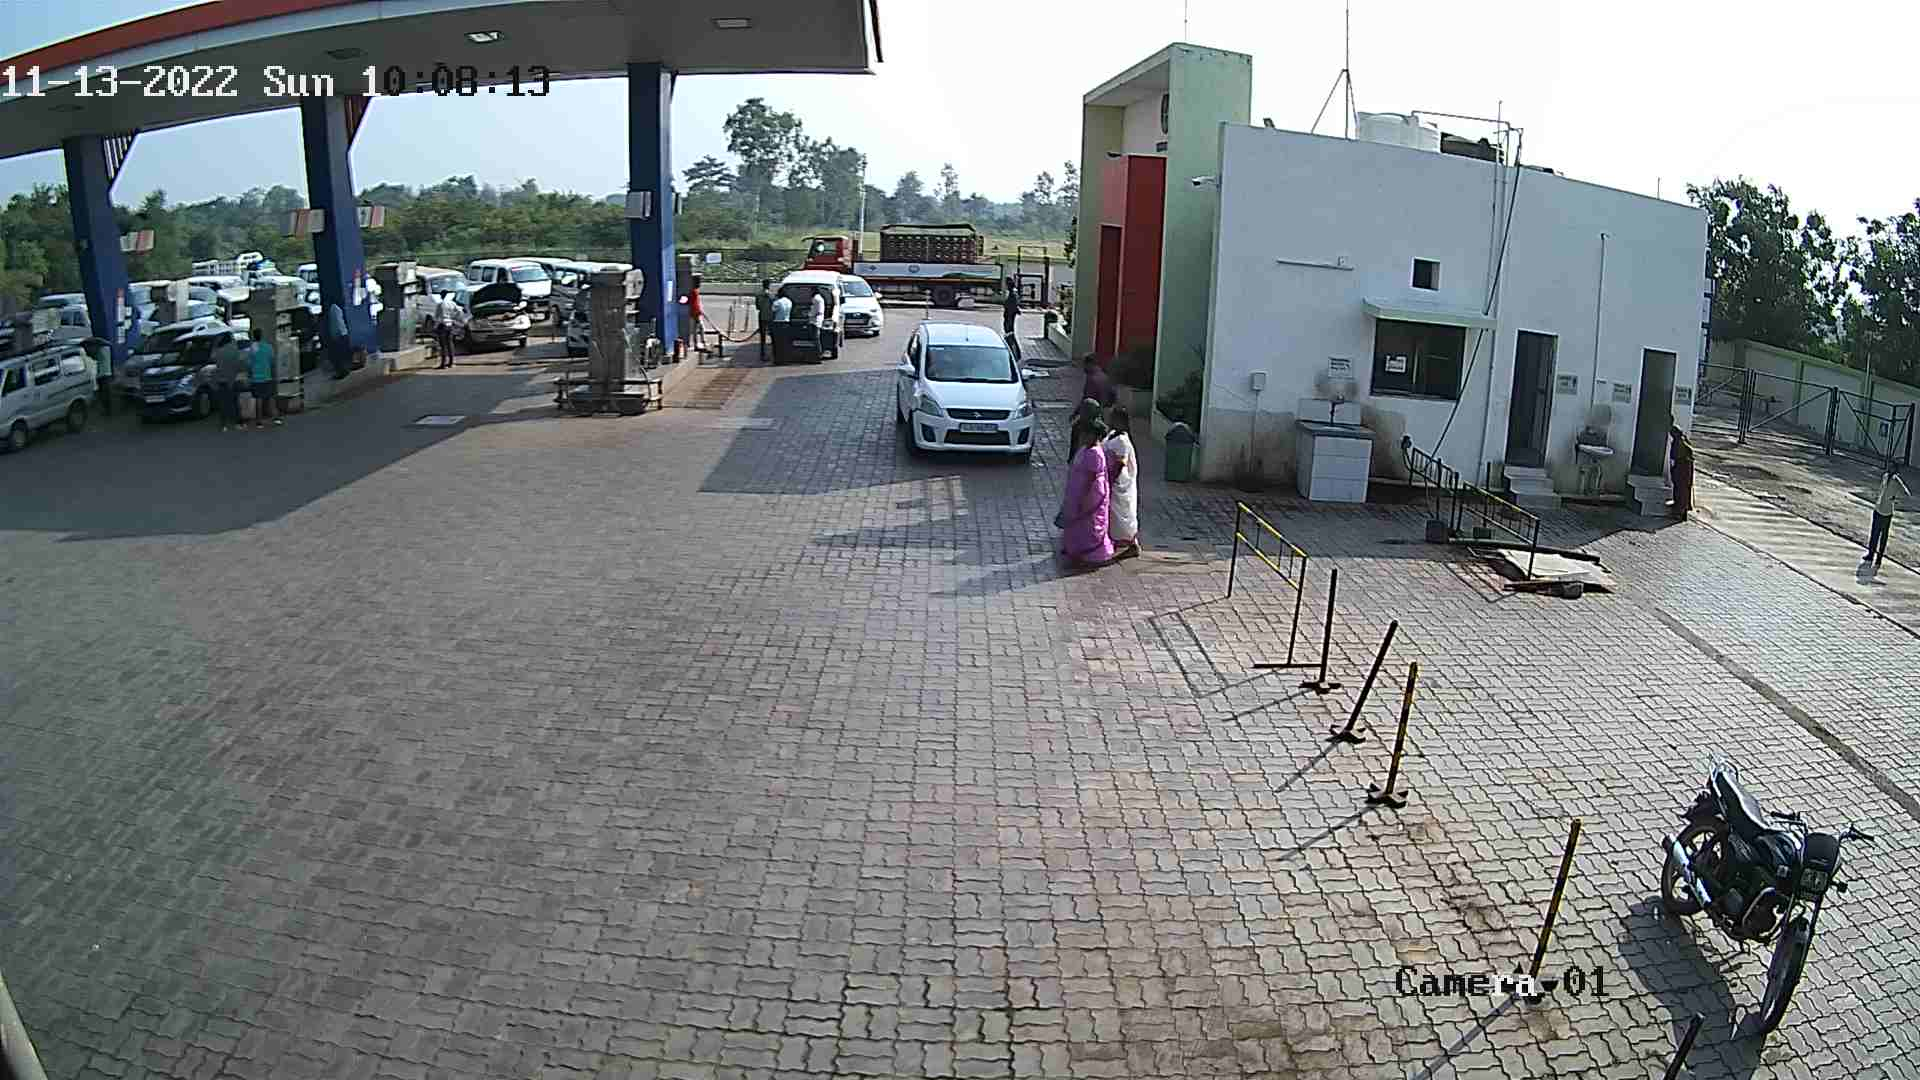Bike: (1627, 735, 1869, 1029)
Car: (887, 314, 1044, 464), (133, 318, 258, 419), (0, 340, 105, 459), (754, 258, 858, 368), (105, 311, 223, 400), (440, 274, 535, 353), (462, 253, 556, 323), (402, 260, 471, 349), (284, 260, 332, 377), (545, 253, 622, 324), (181, 243, 282, 297), (833, 262, 889, 340), (22, 286, 90, 340), (556, 281, 601, 357), (206, 280, 256, 345), (46, 299, 98, 353), (179, 280, 219, 324)
HMV: (793, 215, 1014, 311)
